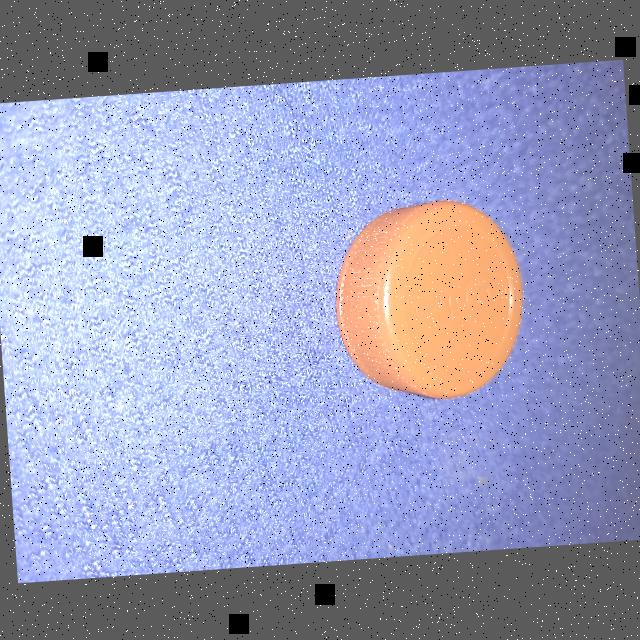plastic_bottle_cap: (328, 193, 530, 408)
